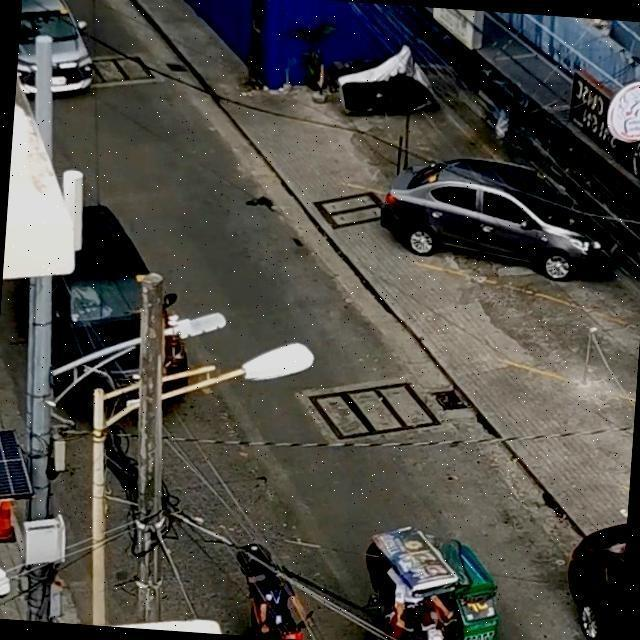Motorcycle: (240, 529, 335, 640)
Tricycle: (349, 496, 543, 640)
